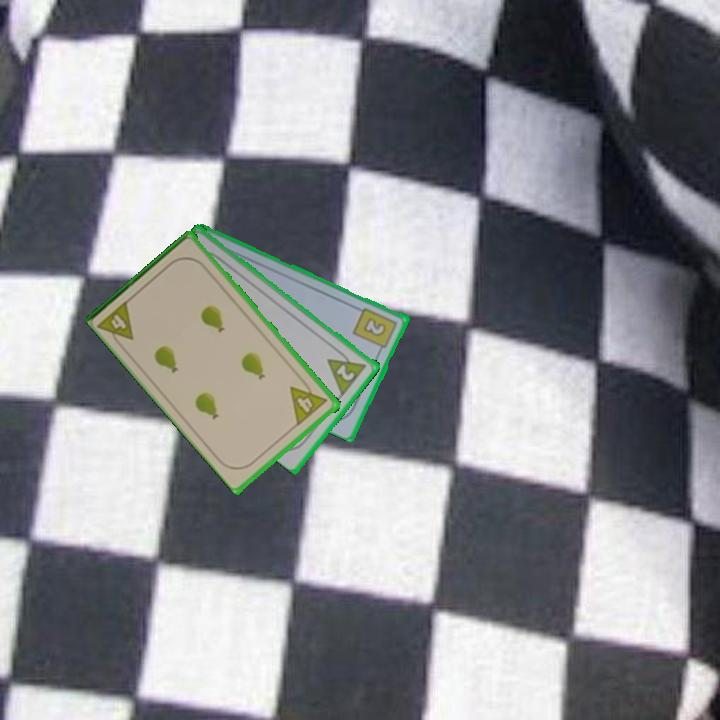2b: (350, 304, 400, 356)
2p: (324, 344, 370, 397)
4p: (95, 296, 137, 352), (287, 375, 331, 428)
